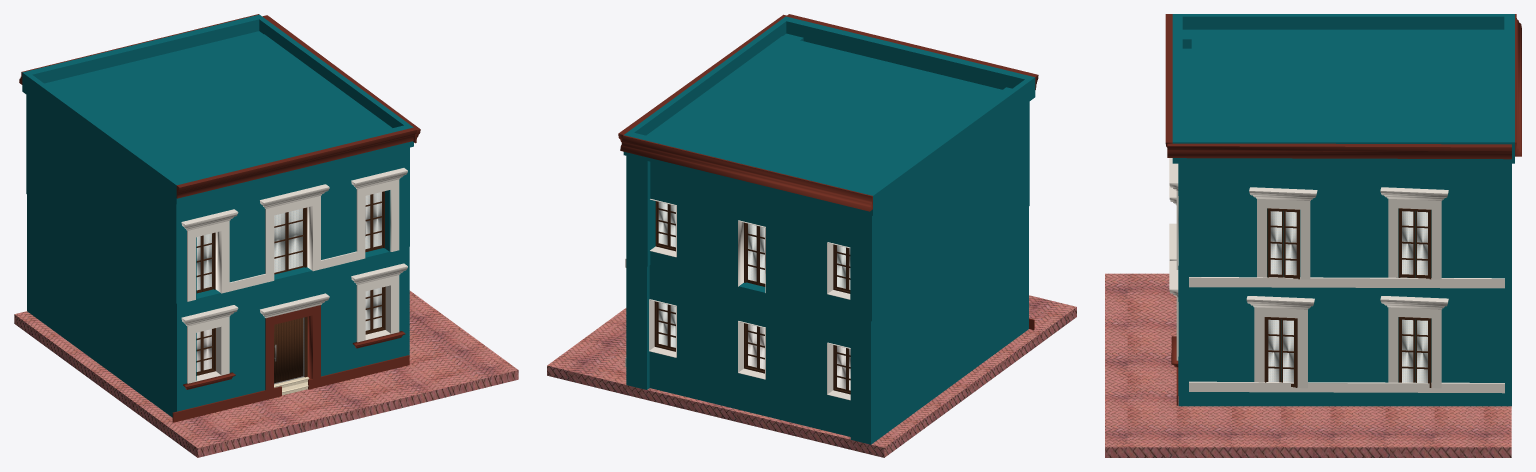
File: casaaqua_optim.obj
The picture shows the model from 3 angles, left to right: view 1: azimuth 30°, elevation 25°; view 2: azimuth 150°, elevation 25°; view 3: azimuth 270°, elevation 25°; orthographic projection. The views are drawn at different scales.
Parts seen in each view (by area): view 1: 3dSolid.033; view 2: 3dSolid.033; view 3: 3dSolid.033.
Boxes of the visible parts, box(x1,y1,x2,y2) form: 3dSolid.033: box(14, 14, 518, 457); 3dSolid.033: box(547, 14, 1076, 457); 3dSolid.033: box(1105, 14, 1521, 457).
Size of the model in its own units: 12.29 by 9.08 by 12.46.
